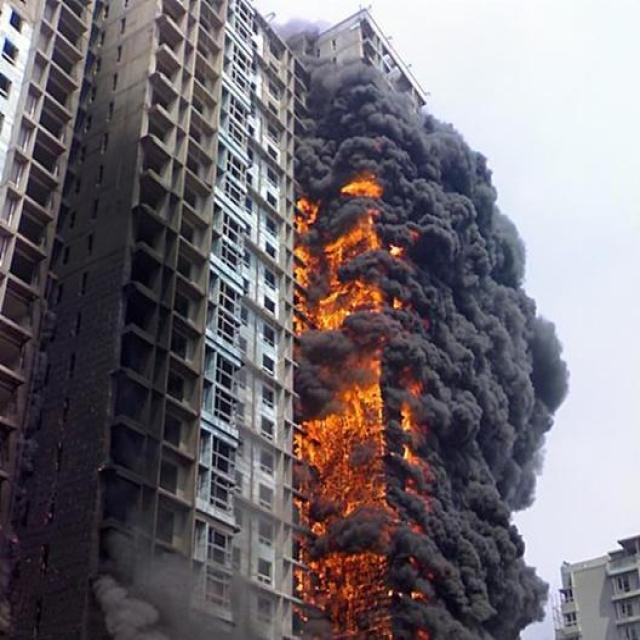Fire: (292, 180, 388, 640)
Smoke: (420, 75, 572, 640), (300, 56, 419, 176)
